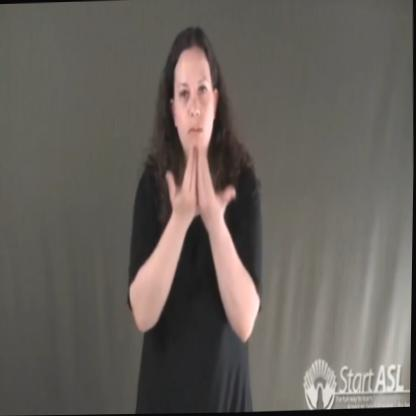HowAreYou: (164, 134, 240, 254)
